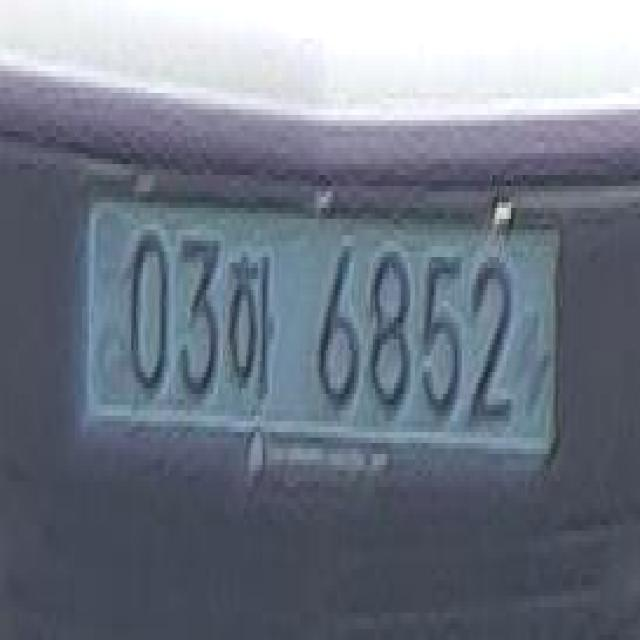EV_plate: (85, 167, 562, 503)
